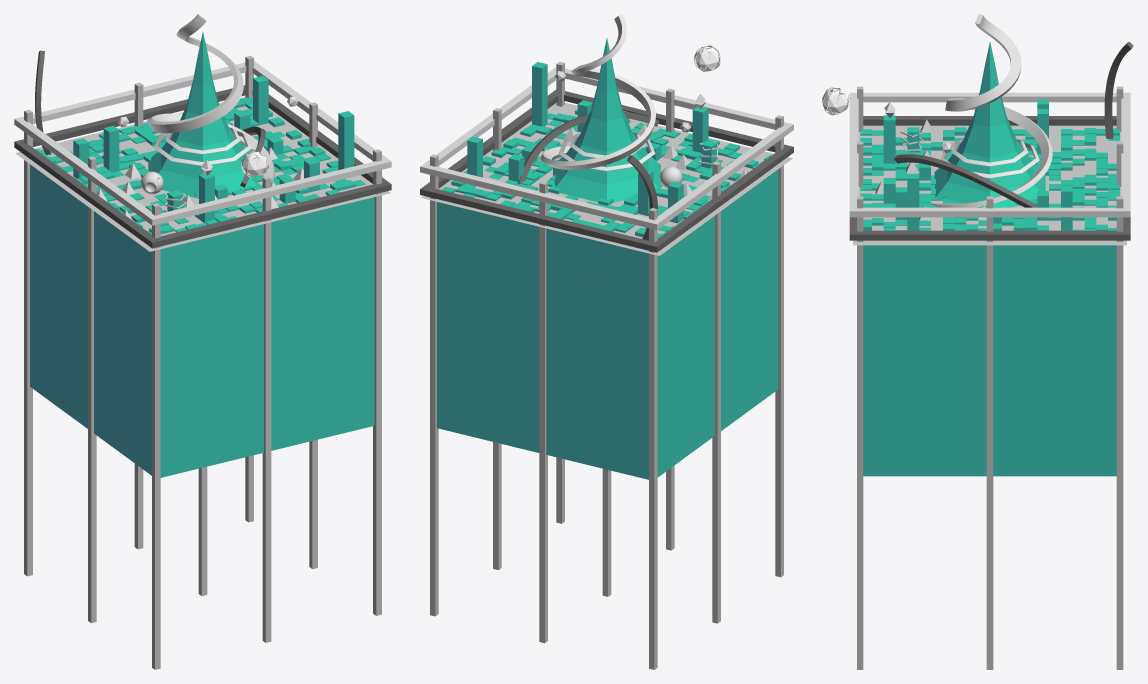
Rendered from uploads_files_822295_fbx.fbx.
3 renders of one model, left to right at view 1: azimuth 30°, elevation 25°; view 2: azimuth 150°, elevation 25°; view 3: azimuth 270°, elevation 25°, orthographic. The views are drawn at different scales.
Visible parts, largest first — view 1: Cube, Tube_1, Tube, Cone, Plane, Cube_1, Cube_2_3, Cube_2_18, Cube_2_4, Cube_2_5, Cube_2_0, Cube_2_2 (+15 smaller); view 2: Cube, Tube_1, Tube, Cone, Plane, Cube_1, Cube_2_18, Cube_2_9, Cube_2_20, Cube_2_0, Cube_2_22, Cube_2_19 (+15 smaller); view 3: Cube, Tube_1, Plane, Cone, Tube, Cube_1, Sweep, Cube_2_20, Cube_2_11, Cube_2_2, Cube_2_26, Cube_2_17 (+7 smaller).
Part boxes in pixels (x1,y1,x2,y2): Cube: [30, 76, 374, 477]; Tube_1: [14, 61, 391, 225]; Tube: [14, 85, 391, 248]; Cone: [148, 32, 257, 198]; Plane: [15, 97, 390, 251]; Cube_1: [147, 14, 274, 181]; Cube_2_3: [152, 320, 160, 553]; Cube_2_18: [24, 343, 32, 576]; Cube_2_4: [262, 294, 271, 526]; Cube_2_5: [373, 267, 381, 499]; Cube_2_0: [152, 436, 160, 669]; Cube_2_2: [373, 383, 381, 615]; Cube: [437, 62, 778, 479]; Tube_1: [420, 67, 793, 229]; Tube: [420, 90, 793, 252]; Cone: [553, 38, 660, 202]; Plane: [421, 103, 792, 255]; Cube_1: [540, 14, 655, 169]; Cube_2_18: [649, 438, 657, 669]; Cube_2_9: [712, 392, 720, 623]; Cube_2_20: [430, 386, 438, 616]; Cube_2_0: [775, 347, 783, 577]; Cube_2_22: [539, 298, 547, 528]; Cube_2_19: [539, 412, 547, 643]; Cube: [860, 99, 1119, 476]; Tube_1: [849, 92, 1130, 217]; Plane: [853, 125, 1126, 245]; Cone: [934, 41, 1045, 207]; Tube: [849, 116, 1130, 240]; Cube_1: [931, 14, 1052, 207]; Sweep: [894, 42, 1131, 207]; Cube_2_20: [1116, 434, 1123, 669]; Cube_2_11: [986, 434, 993, 669]; Cube_2_2: [857, 434, 863, 669]; Cube_2_26: [1116, 196, 1123, 434]; Cube_2_17: [986, 196, 993, 434].
Bounding box in the file's own units: 218 × 505 × 240.
